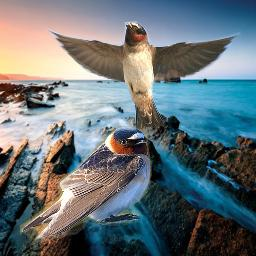Swallow: (42, 21, 241, 132), (20, 126, 152, 243)
